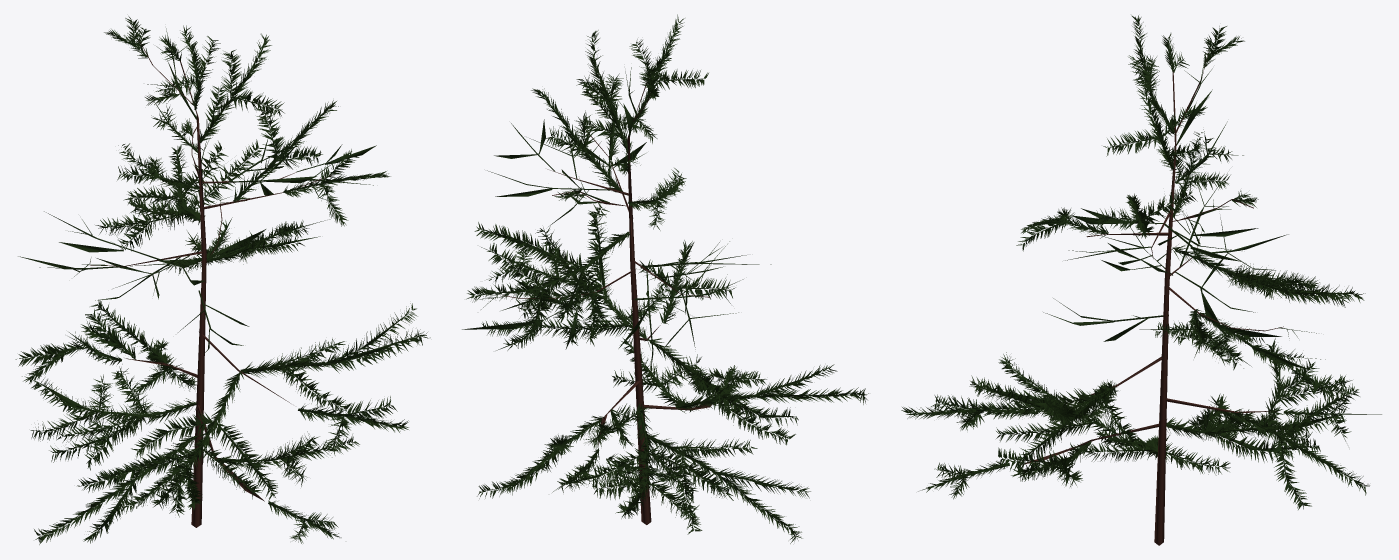
The model's file is sapling_b_lod0.obj.
3 views of the same model, side by side, from view 1: azimuth 30°, elevation 25°; view 2: azimuth 150°, elevation 25°; view 3: azimuth 270°, elevation 25° (orthographic). The views are drawn at different scales.
Parts seen in each view (by area): view 1: sapling_b_lod0; view 2: sapling_b_lod0; view 3: sapling_b_lod0.
Boxes of the visible parts, box(x1,y1,x2,y2) form: sapling_b_lod0: box(15, 16, 430, 544); sapling_b_lod0: box(462, 14, 868, 543); sapling_b_lod0: box(901, 15, 1381, 545).
Bounding box in the file's own units: 25.18 × 37.47 × 31.71.
